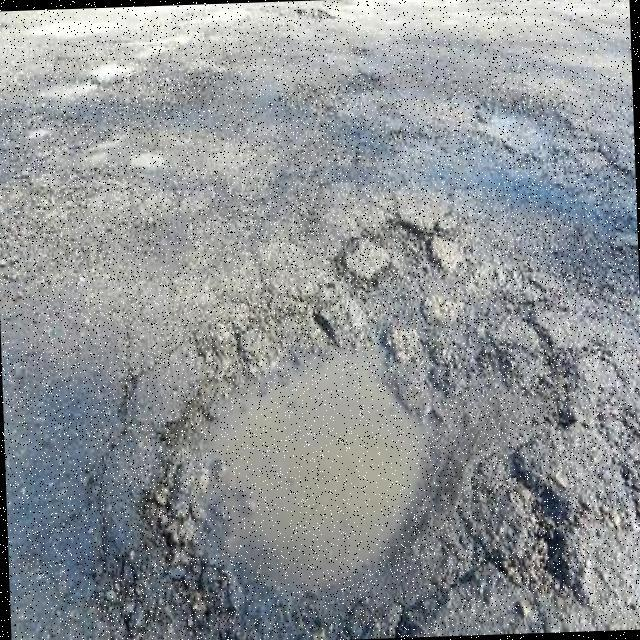Pothole: (144, 92, 640, 640)
